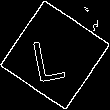L_N: (35, 27, 75, 83)
